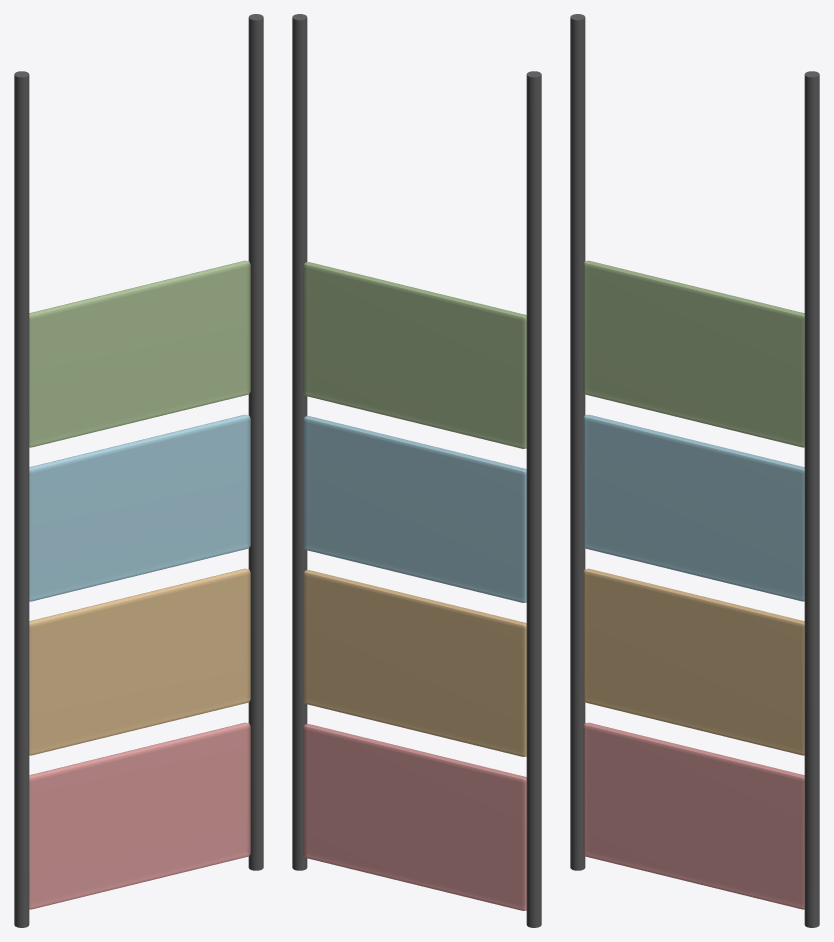
Rendered from gate.fbx.
The picture shows the model from 3 angles, left to right: view 1: azimuth 30°, elevation 25°; view 2: azimuth 150°, elevation 25°; view 3: azimuth 330°, elevation 25°; orthographic projection.
Parts seen in each view (by area): view 1: pCube4, pCube3, pCube5, pCube1, gatecylndr; view 2: pCube5, pCube4, pCube3, pCube1, gatecylndr; view 3: pCube4, pCube3, pCube5, pCube1, gatecylndr.
Part boxes in pixels (x1,y1,x2,y2): pCube4: [29, 414, 250, 601]; pCube3: [29, 568, 250, 755]; pCube5: [29, 260, 250, 447]; pCube1: [29, 722, 250, 909]; gatecylndr: [14, 14, 263, 927]; pCube5: [303, 262, 526, 448]; pCube4: [303, 416, 526, 602]; pCube3: [303, 570, 526, 756]; pCube1: [303, 724, 526, 910]; gatecylndr: [292, 14, 541, 927]; pCube4: [583, 414, 804, 601]; pCube3: [583, 568, 804, 755]; pCube5: [583, 260, 804, 447]; pCube1: [583, 722, 804, 909]; gatecylndr: [570, 14, 819, 927].
Bounding box in the file's own units: 6723 × 22093 × 345.
